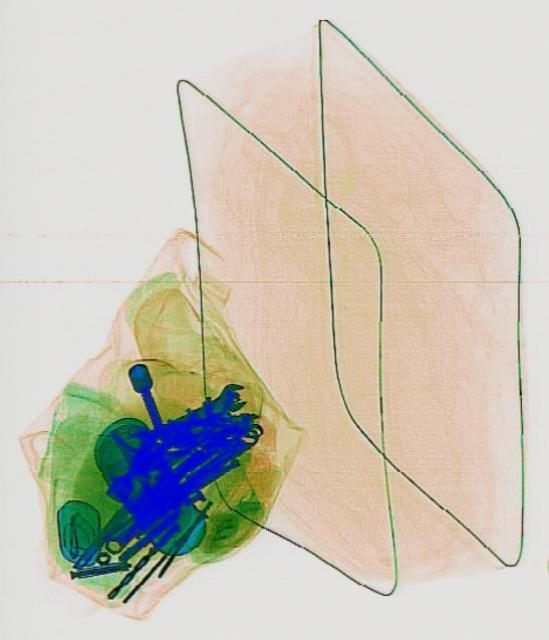Wrench: (144, 376, 249, 450)
